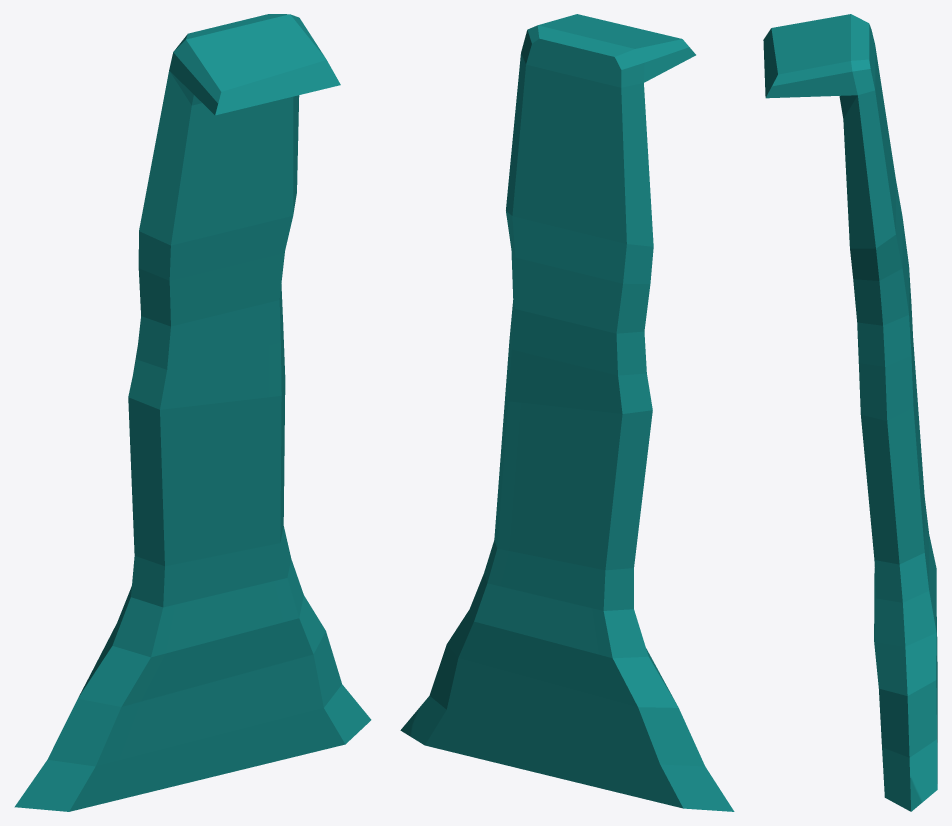
The model's file is CascadaAnimada_000019.obj.
3 renders of one model, left to right at view 1: azimuth 30°, elevation 25°; view 2: azimuth 150°, elevation 25°; view 3: azimuth 270°, elevation 25°, orthographic. The views are drawn at different scales.
Visible parts, largest first — view 1: Cube.053, Cube.054; view 2: Cube.053, Cube.054; view 3: Cube.053, Cube.054.
Part boxes in pixels (x1=…): Cube.053: x1=14, y1=14, x2=371, y2=811; Cube.054: x1=169, y1=14, x2=340, y2=115; Cube.053: x1=400, y1=25, x2=734, y2=811; Cube.054: x1=538, y1=14, x2=695, y2=82; Cube.053: x1=839, y1=14, x2=937, y2=811; Cube.054: x1=763, y1=14, x2=857, y2=98.
Size of the model in its own units: 136 by 277 by 62.23.
